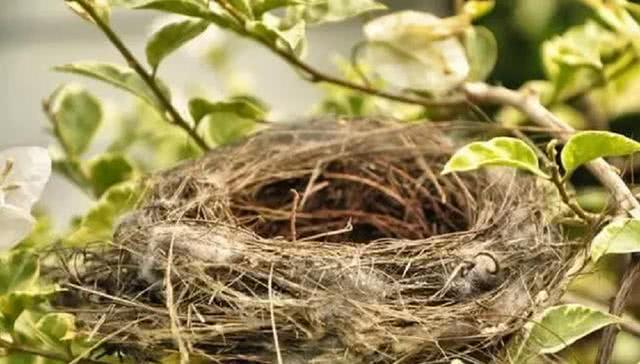bird-nest: (79, 112, 578, 353)
